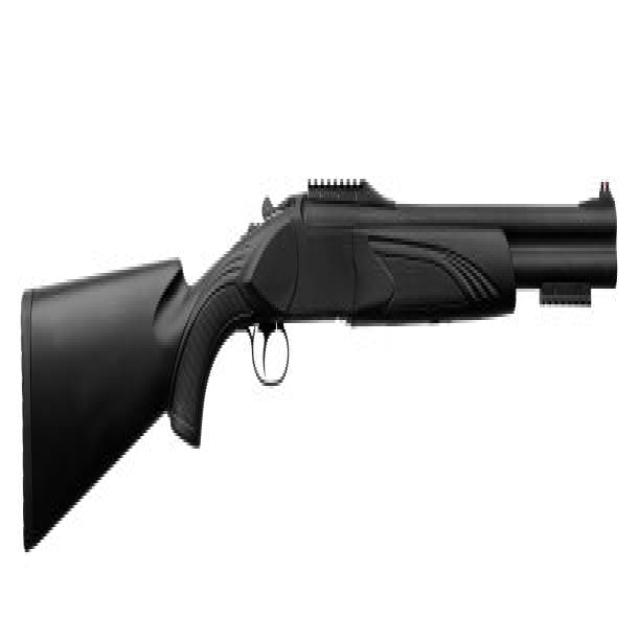rifle: (11, 122, 624, 586)
